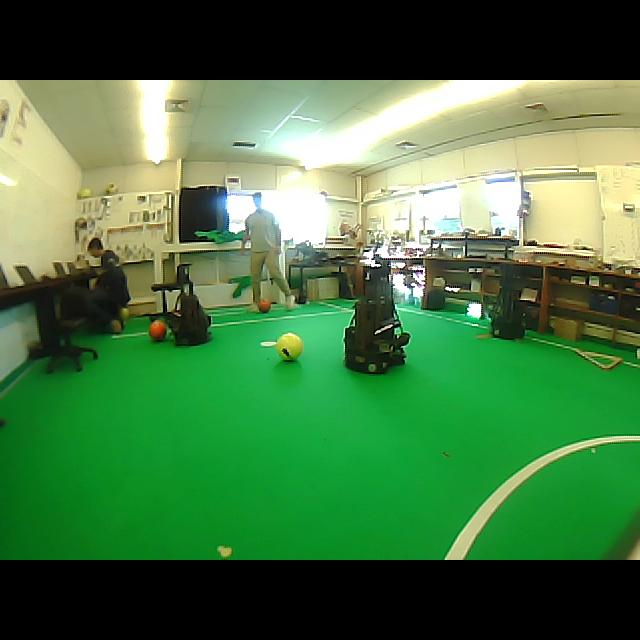ball: (276, 333, 303, 361), (149, 320, 166, 341), (120, 307, 129, 328), (259, 300, 271, 312), (78, 188, 92, 198), (105, 184, 118, 194)
robot: (344, 265, 410, 373), (491, 264, 525, 339), (165, 290, 211, 345)
